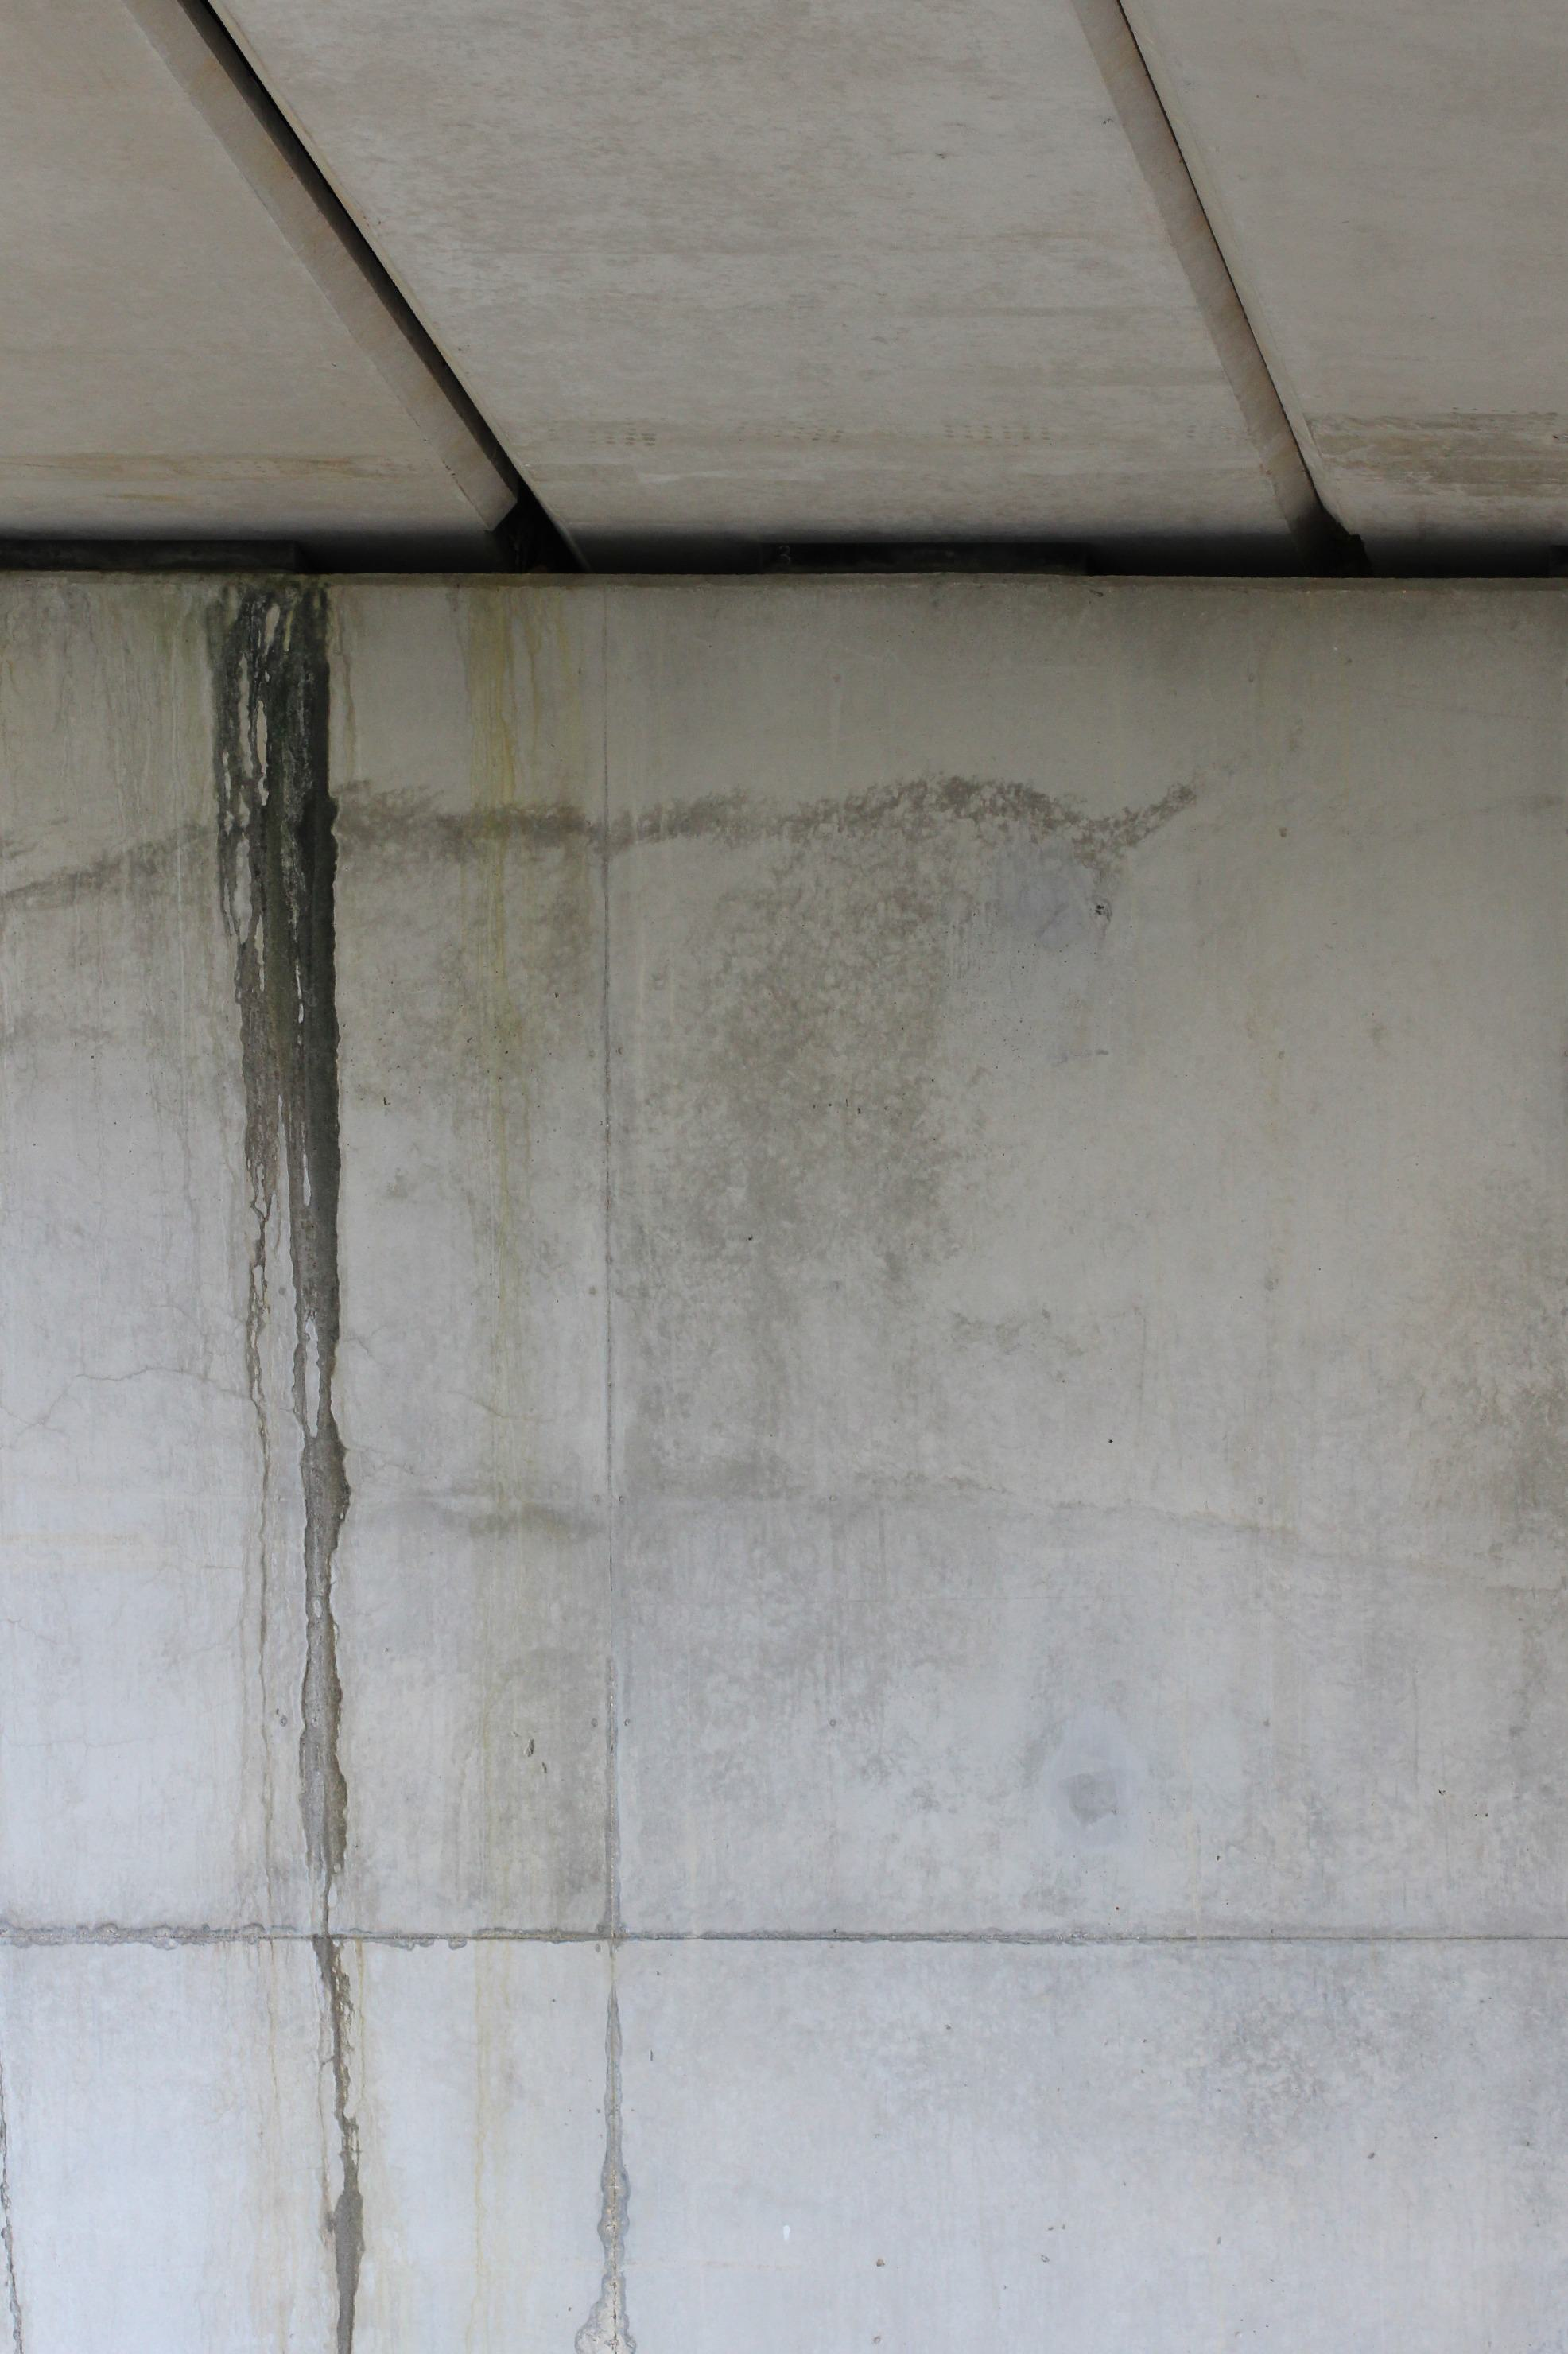Corrosion: (203, 562, 373, 2354)
